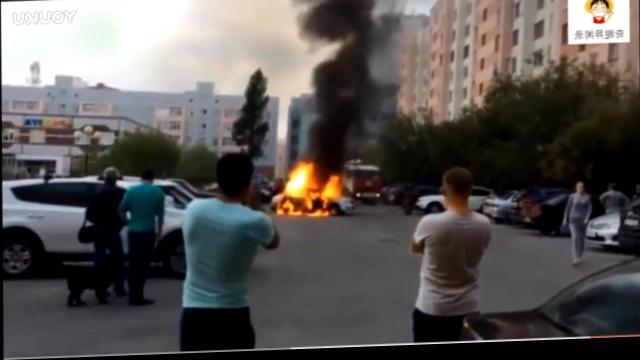fire: (288, 164, 315, 199), (322, 175, 340, 200), (307, 212, 327, 220), (304, 197, 312, 211), (283, 202, 295, 211), (290, 210, 303, 217), (277, 211, 283, 215)
